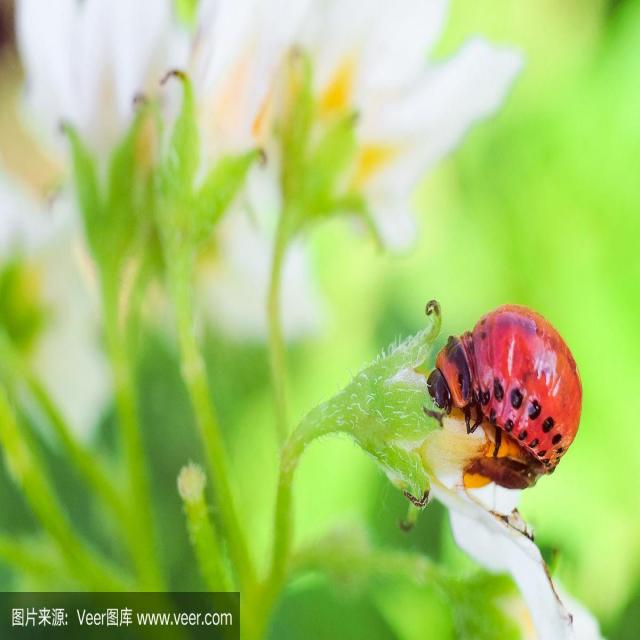ShuCaiHuaBanChong-Larva-: (418, 291, 605, 487)
